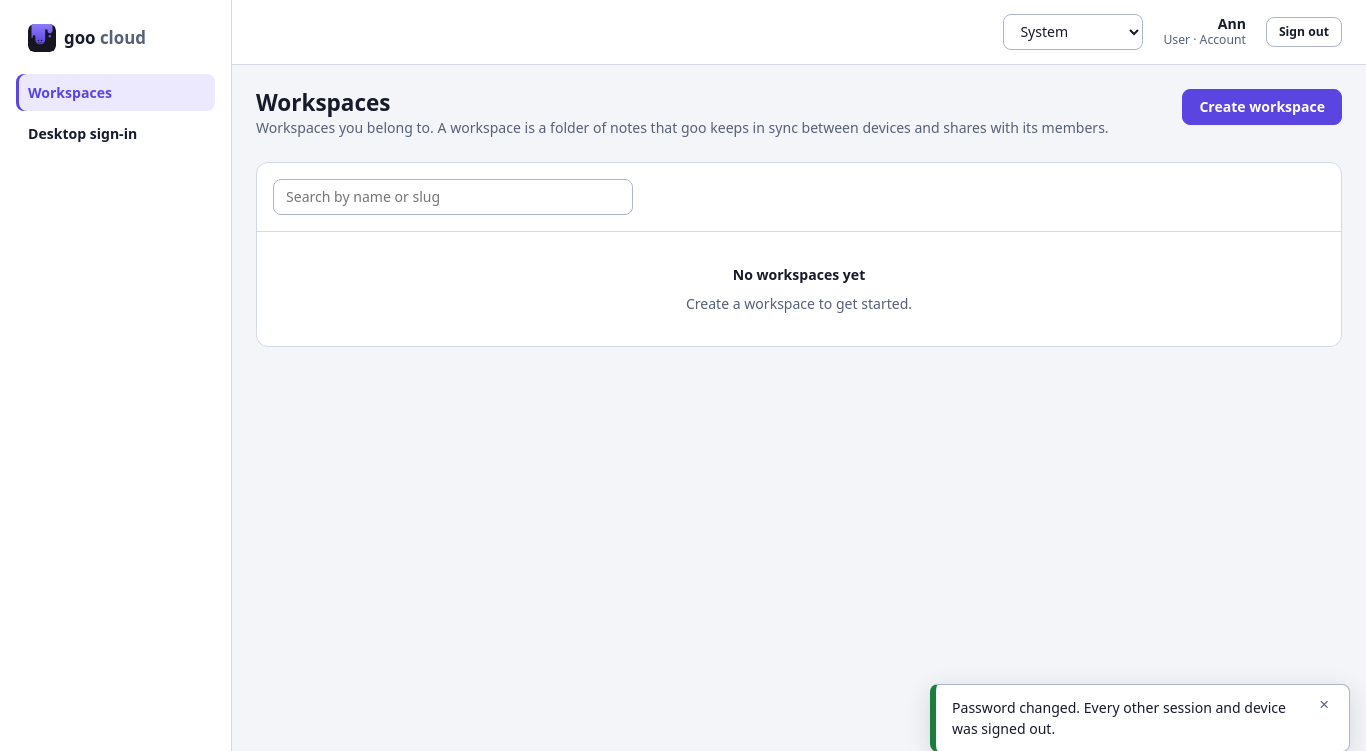
Test: App: must_change_password › the user menu links to the account page with the change-password form
The image size is (1366, 751).
Click the link "Ann User · Account" at (1205, 31), box 1163,14 -> 1246,48
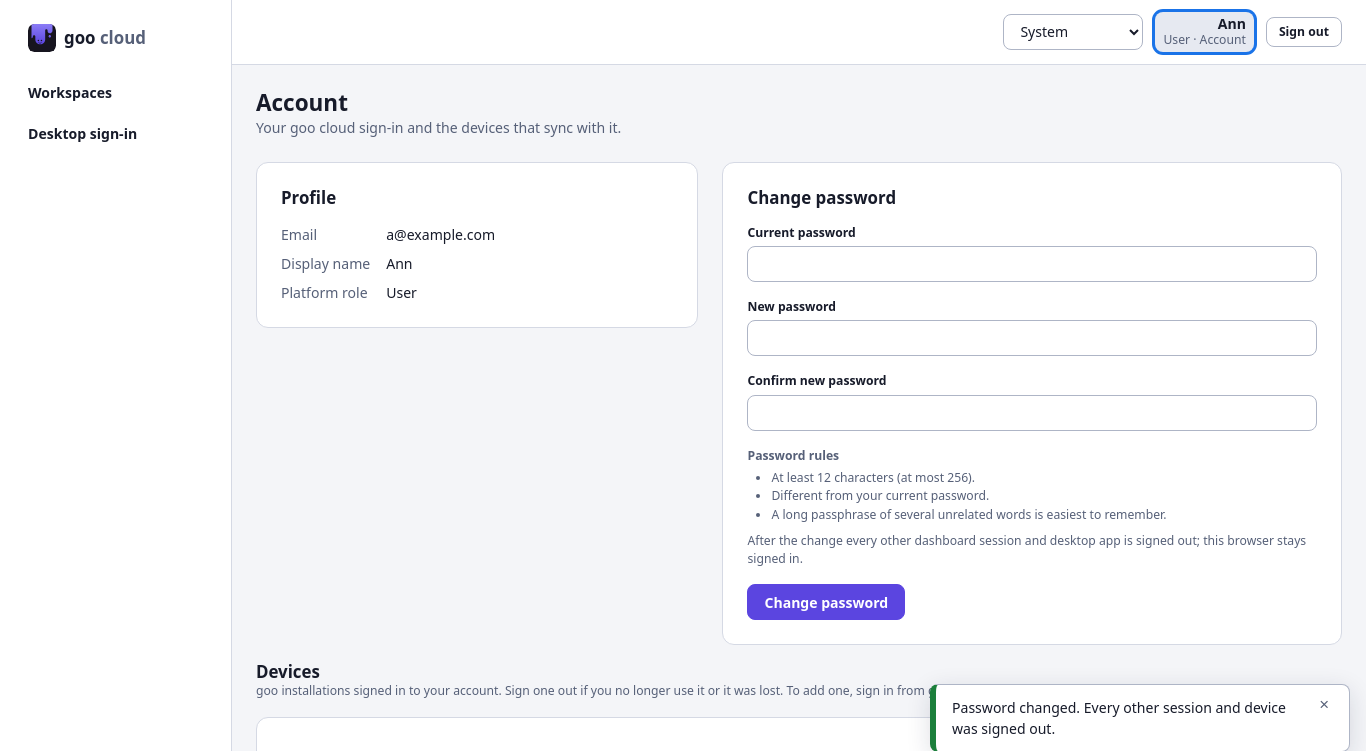
Result: the heading "Account" is shown at 256,86 -> 348,118
Result: the heading "Change password" is shown at 748,186 -> 896,209
Result: the password field labelled "Current password" is shown at 748,246 -> 1317,282
